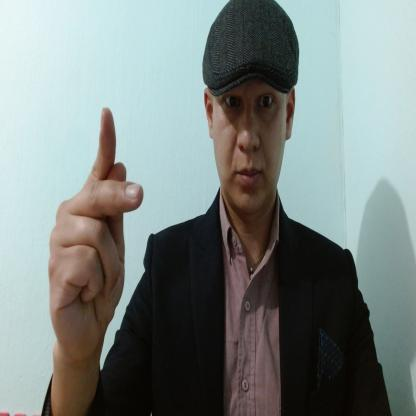P: (51, 103, 144, 360)
